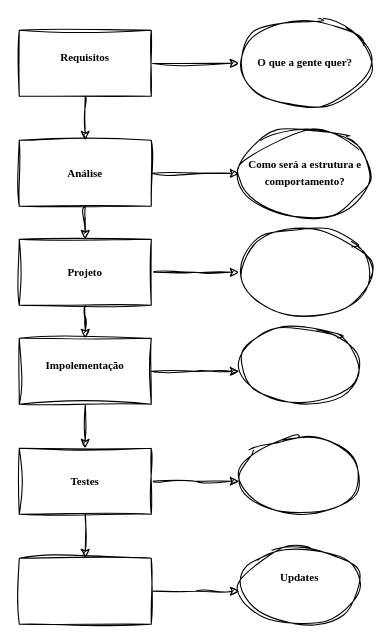
The diagram is 391 pixels wide and 644 high, and some of its shapes have lost their labels. The box of each missing label's shape, as (x1, y1, x2, y2) in pixels:
Debug on: (238, 436, 360, 514)
Hands on!: (238, 326, 360, 404)
Manutenção: (18, 557, 151, 624)
Quais tecnologias serão usadas?: (238, 227, 371, 316)
